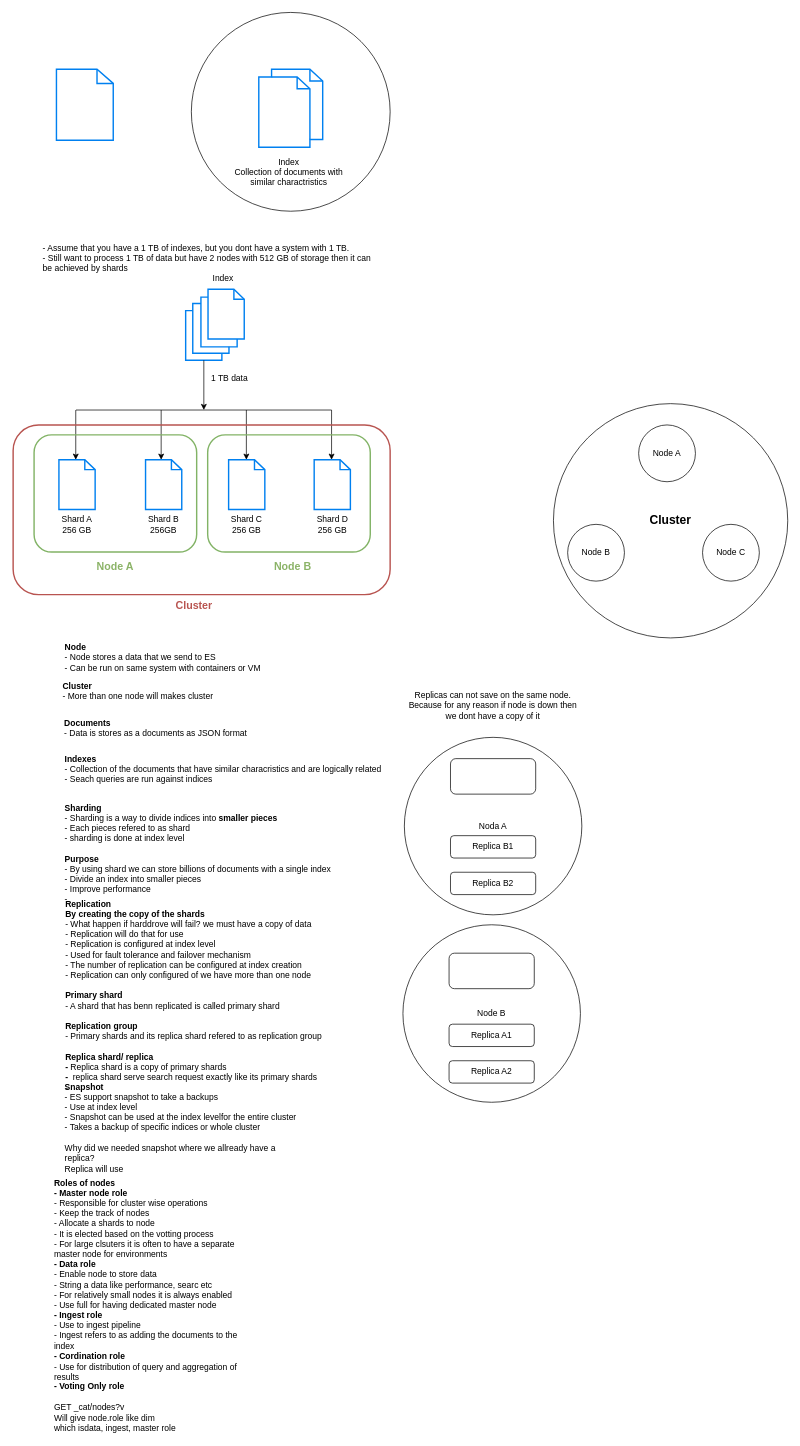
This 800x1446 diagram has some shape labels left out. Each missing label, with the centre of its shape:
"Document {JSON}" goes at (84,104).
"Primary shards A" goes at (493,776).
"Primary shards B" goes at (491,970).
